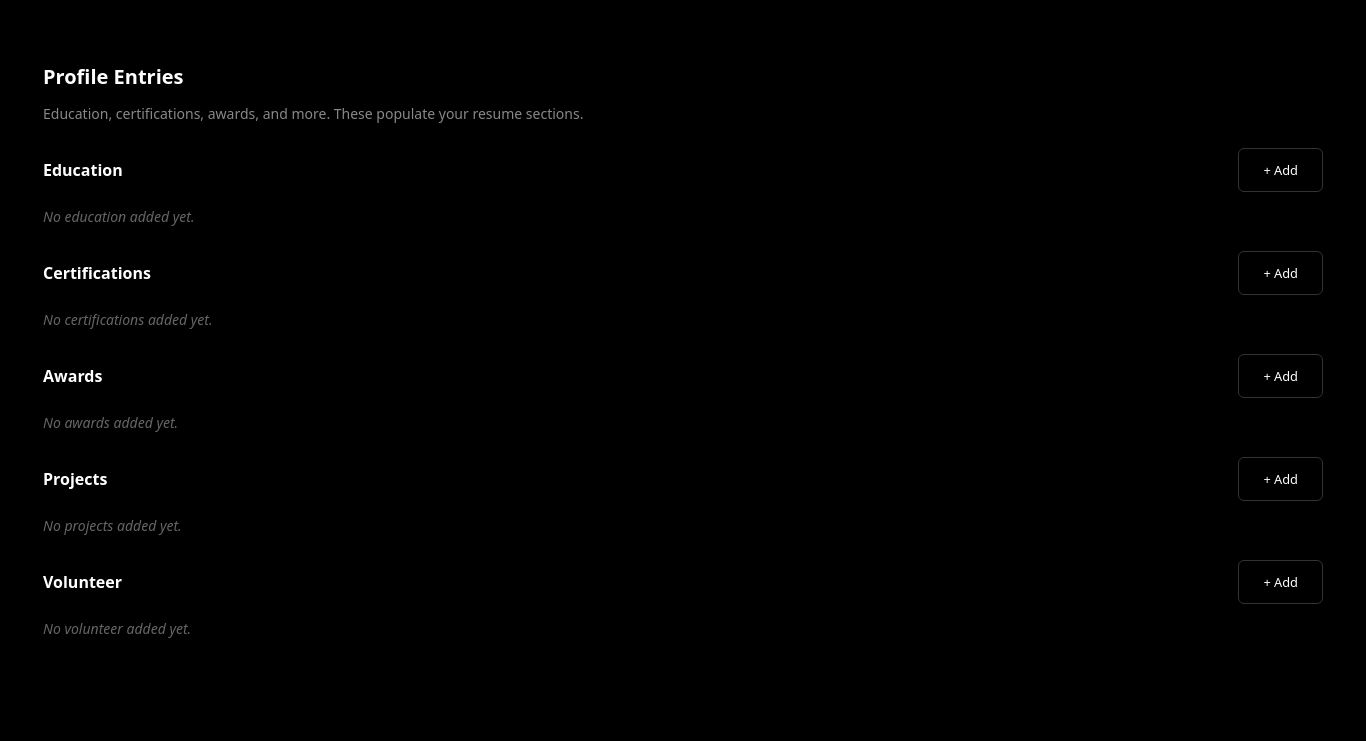
Test: ProfileEntriesEditor › cancel on add form closes the form
Click the button with test id "add-entry-education": (1281, 170) [1238, 148, 1323, 192]
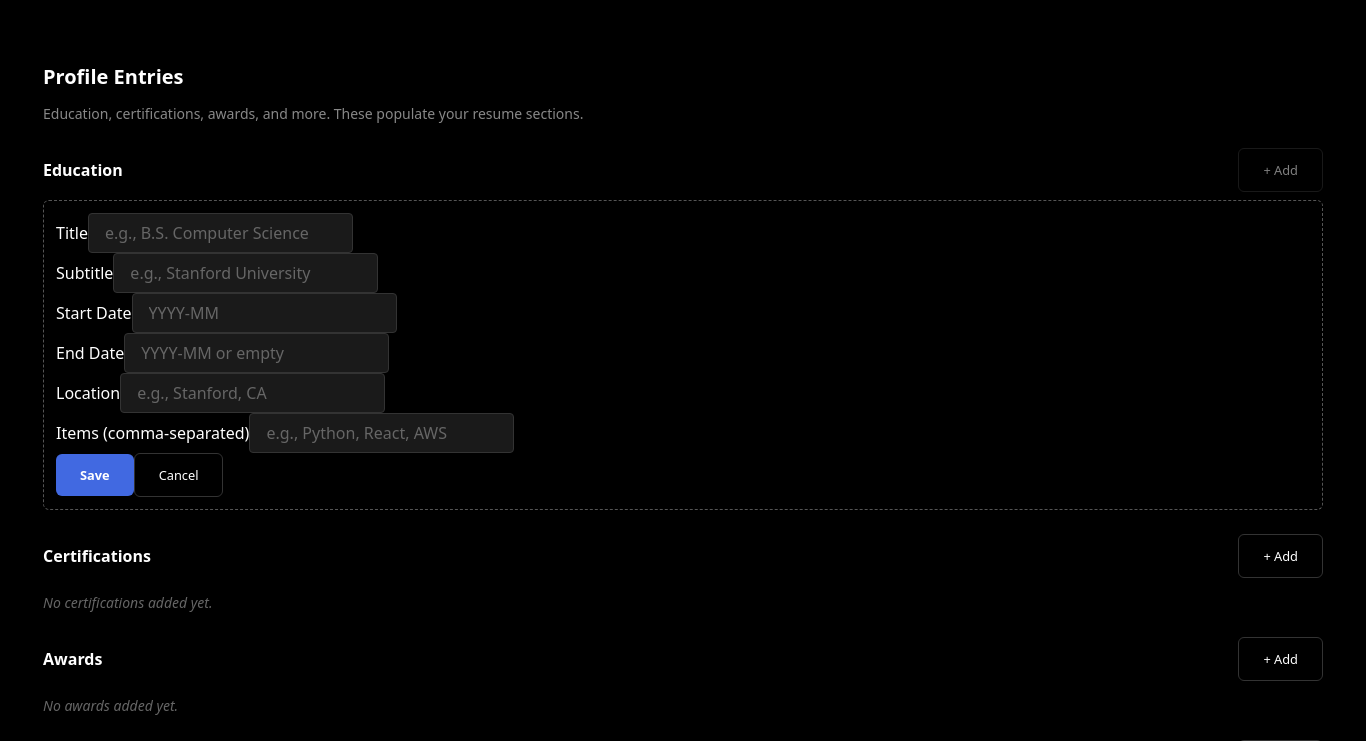
expect the element with test id "add-entry-form-education" is shown: met, box [43, 200, 1323, 510]
Click the button with test id "subsection-edit-cancel": (178, 475) [134, 453, 223, 497]
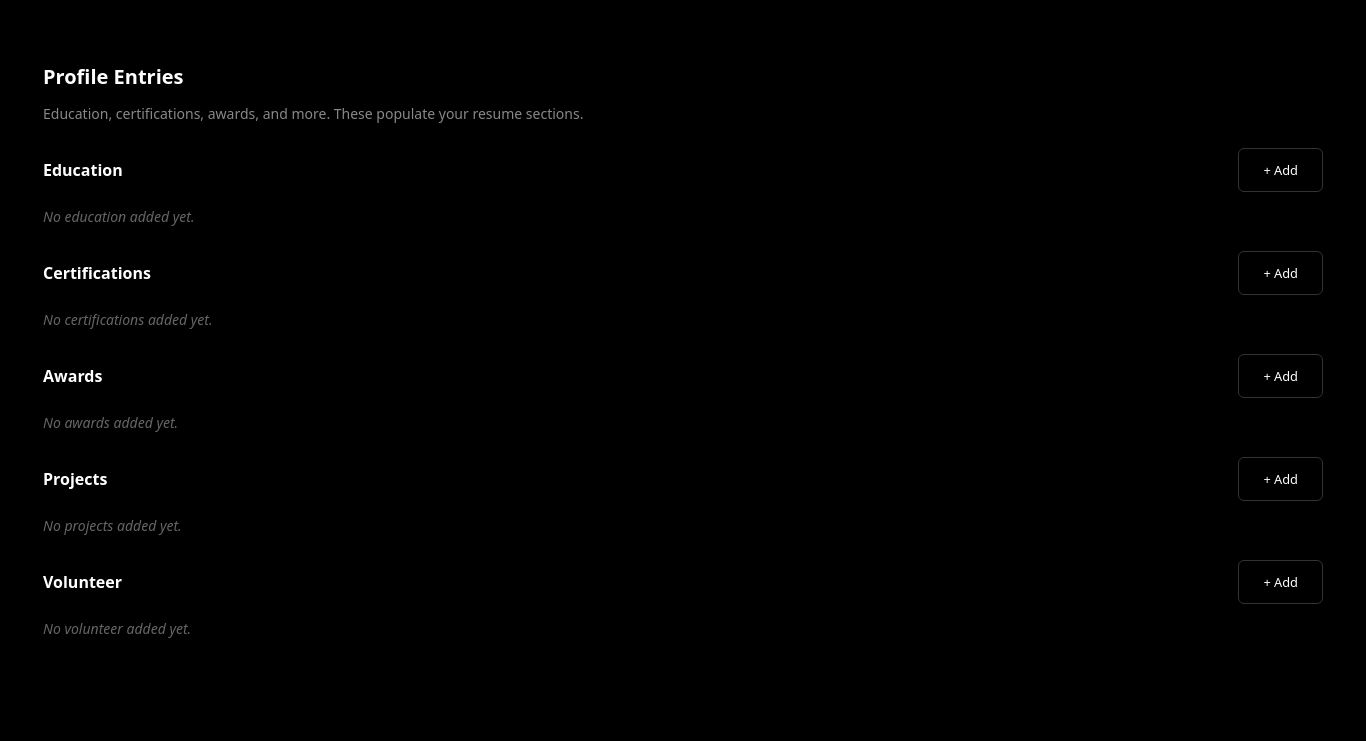
expect the element with test id "add-entry-form-education" is gone: met
